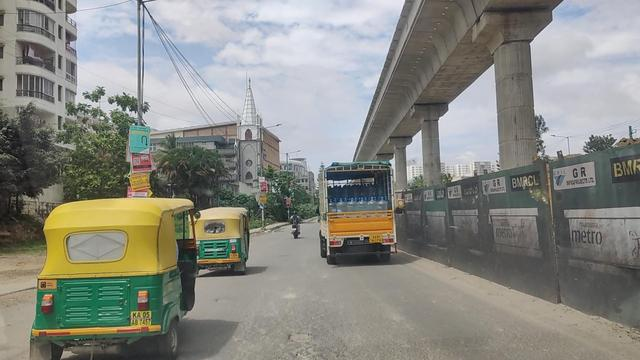HMV: (323, 158, 407, 268)
LMV: (37, 194, 185, 360), (186, 204, 248, 282), (286, 207, 300, 245)
RoadDamages: (281, 318, 325, 360)
